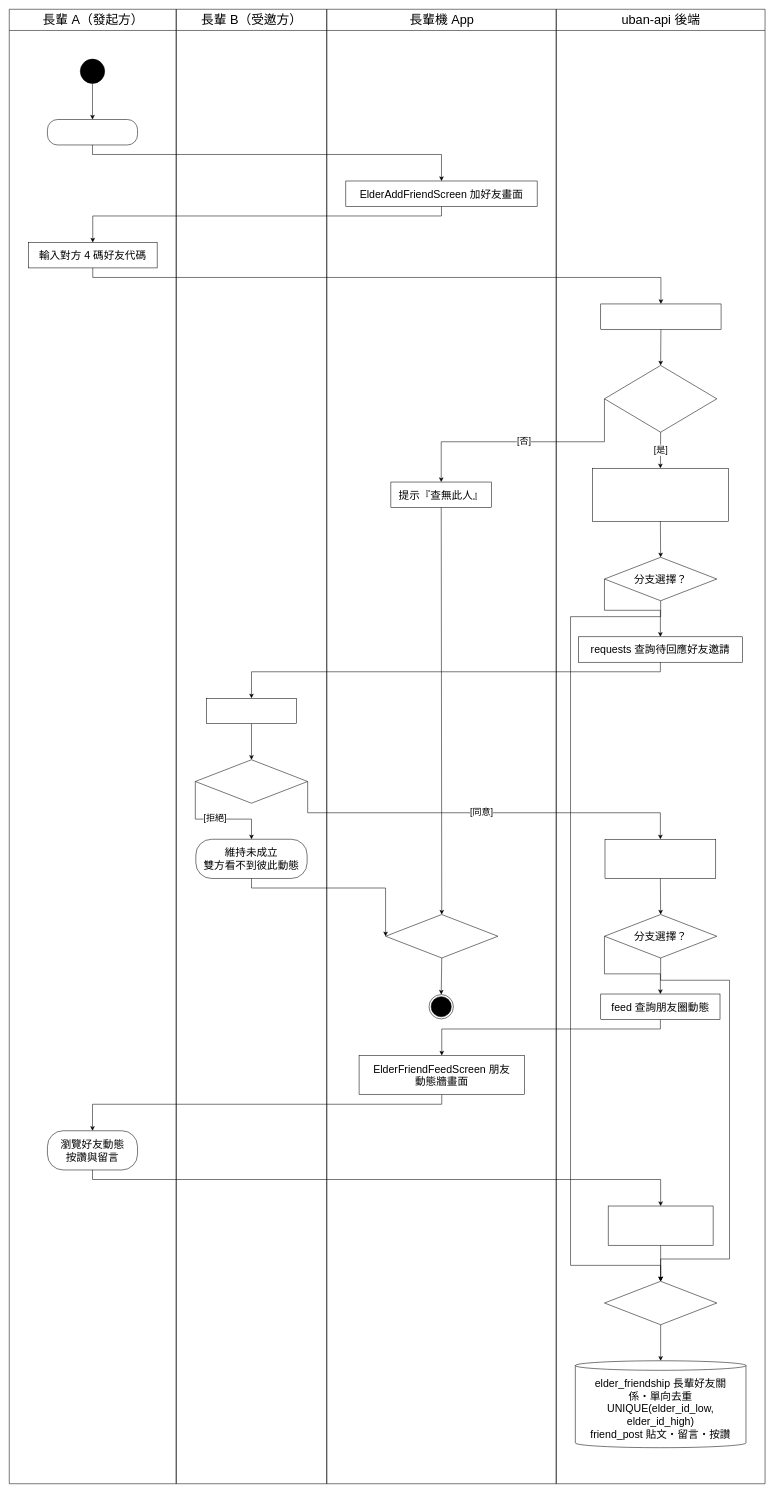
Some shapes in this 774 by 1493 pixel diagram are drawn without their labels. The shapes that lost their labels are listed below. From the top down, each one's box as (x1, y1, x2, y2) in pixels, then its label:
(47, 119, 138, 145): 開啟『加好友』
(600, 303, 721, 329): search 搜尋長輩好友
(604, 365, 717, 432): 代碼存在 且非本人？
(592, 468, 728, 521): friend/request 寫入 elder_friendship （pending）
(206, 698, 297, 724): 查看好友邀請
(195, 759, 308, 803): 是否同意？
(604, 839, 716, 878): friend/respond 狀態改為 accepted
(608, 1205, 713, 1245): like 按讚貼文 comment 留言貼文
